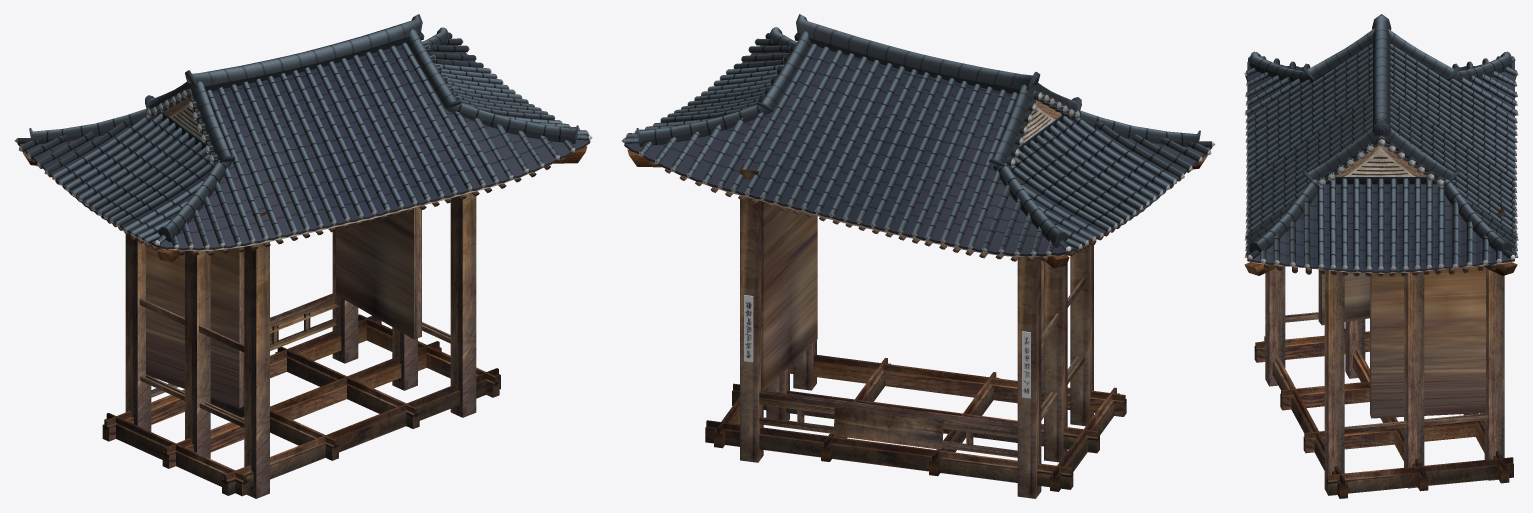
The model's file is koreaDoor.FBX.
3 renders of one model, left to right at view 1: azimuth 30°, elevation 25°; view 2: azimuth 150°, elevation 25°; view 3: azimuth 270°, elevation 25°, orthographic. The views are drawn at different scales.
Parts seen in each view (by area): view 1: Plane002, Object020; view 2: Plane002, Object020; view 3: Plane002, Object020.
Boxes of the visible parts, box(x1,y1,x2,y2) form: Plane002: box(14, 14, 592, 261); Object020: box(102, 193, 500, 498); Plane002: box(621, 14, 1215, 268); Object020: box(705, 163, 1126, 498); Plane002: box(1244, 14, 1518, 276); Object020: box(1254, 112, 1513, 498).
Size of the model in its own units: 101 by 83.84 by 57.48.
